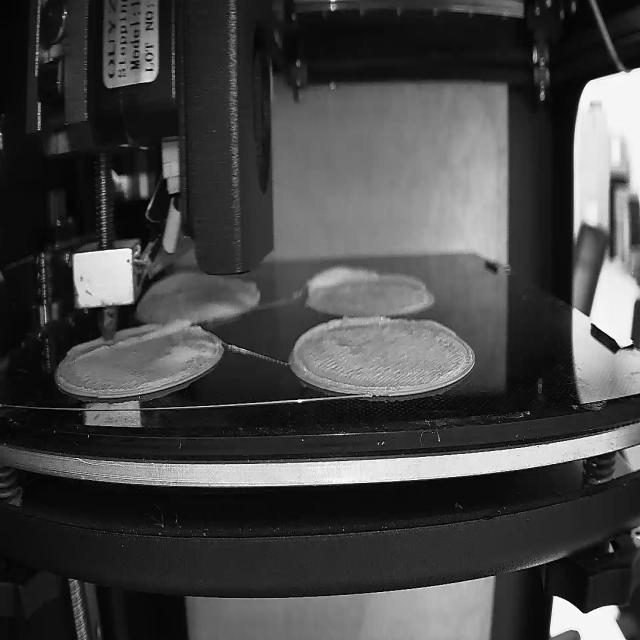over_extrusion: (293, 313, 389, 393), (303, 261, 382, 297), (115, 312, 190, 348), (411, 315, 459, 337), (385, 270, 427, 293), (72, 339, 110, 363)
